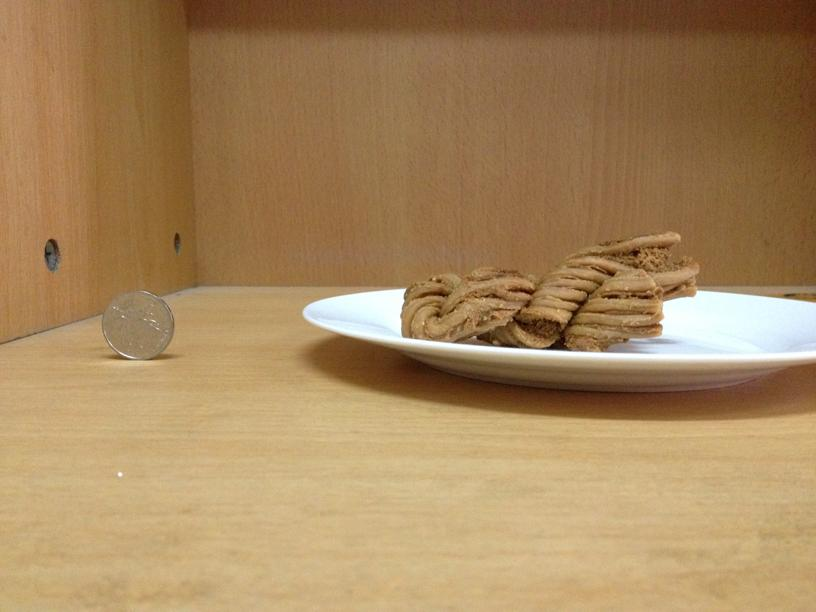coin: (101, 286, 175, 359)
fired_dough_twist: (398, 228, 695, 352)
